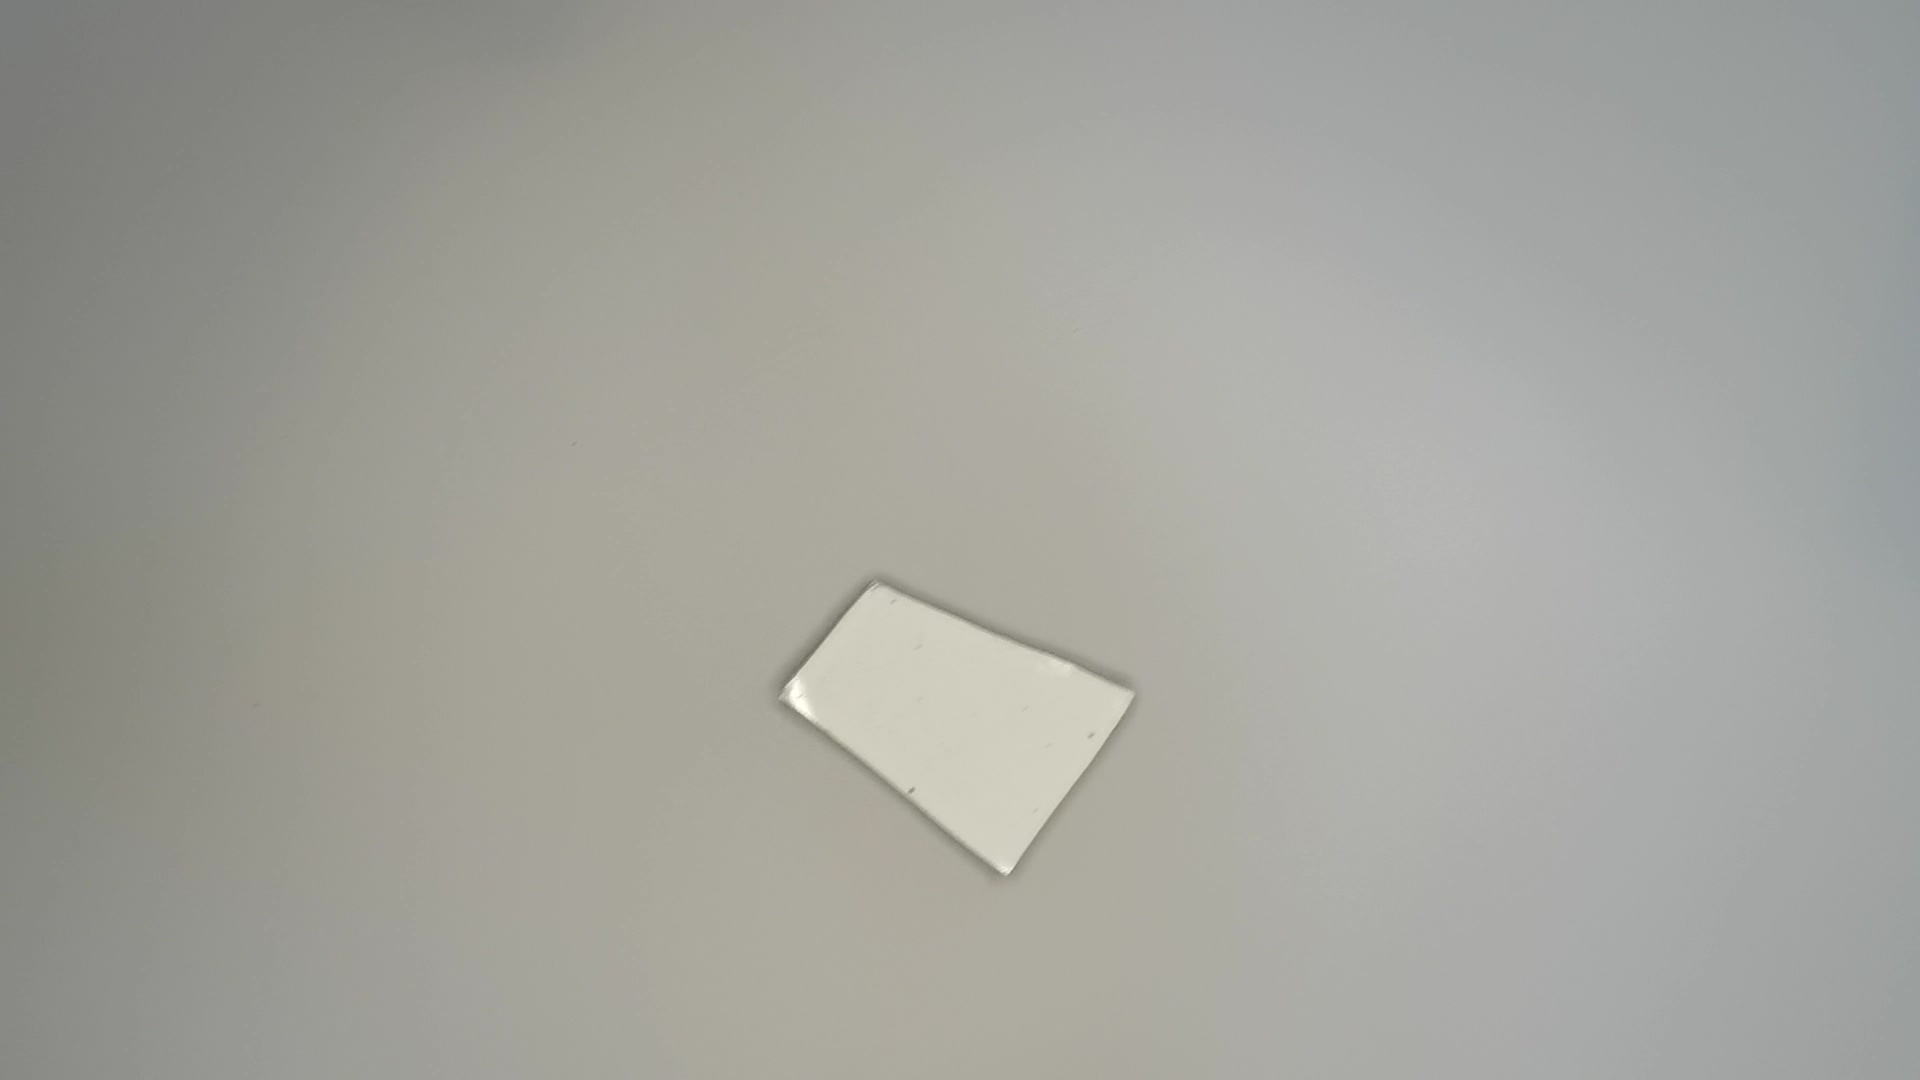ceramic: (777, 576, 1141, 891)
